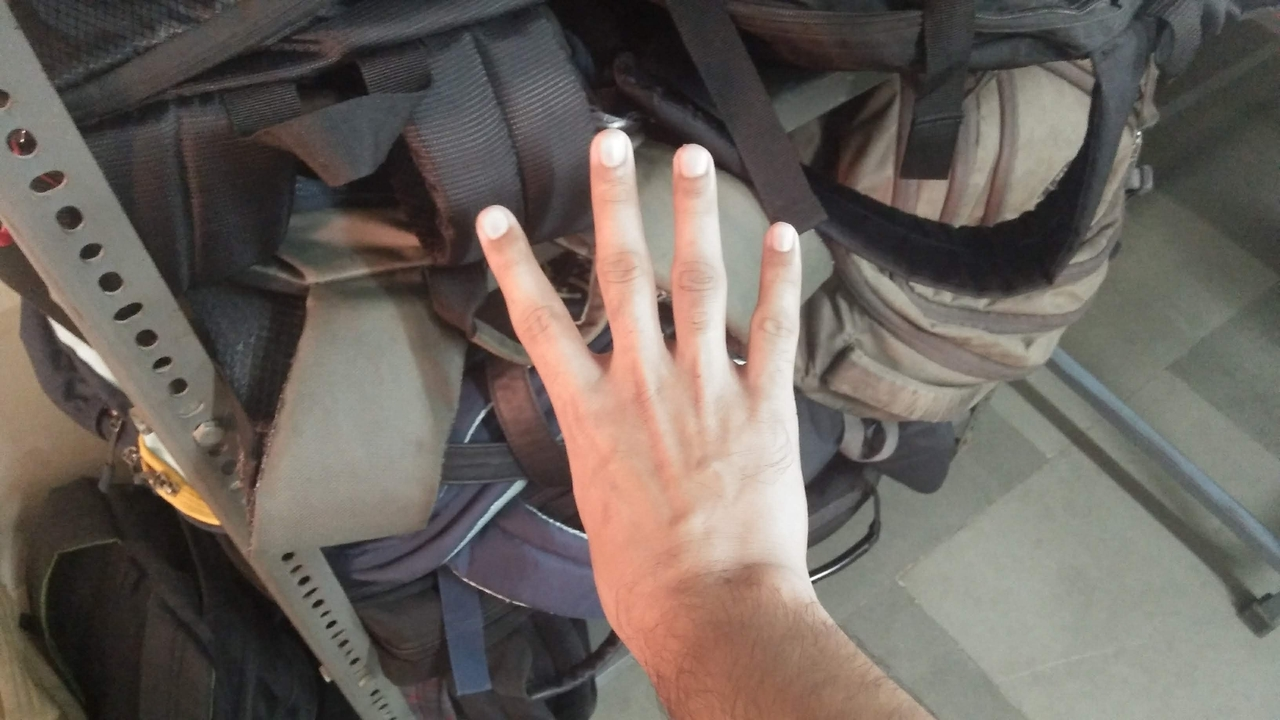fingertip: (462, 196, 530, 260), (660, 134, 724, 194), (752, 208, 812, 270), (584, 122, 644, 180)
